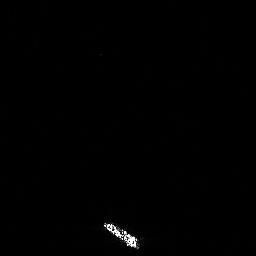ship: (103, 220, 142, 252)
